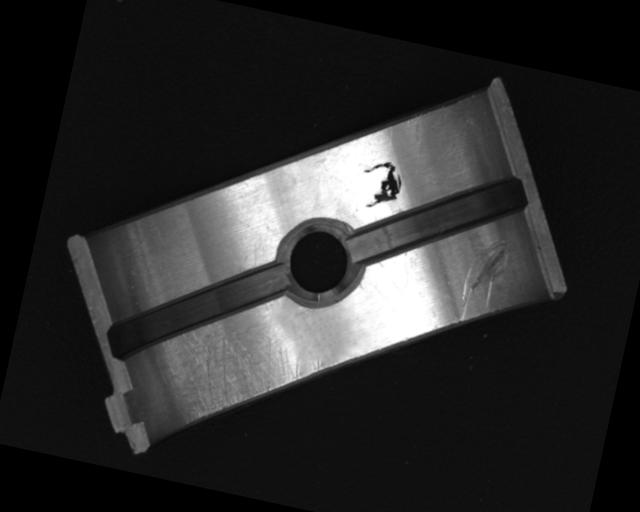blot: (354, 156, 407, 220)
gap: (102, 231, 292, 391), (344, 146, 531, 294)
hole: (268, 210, 371, 314)
nick: (455, 232, 517, 333)
scratch: (143, 310, 329, 449)
